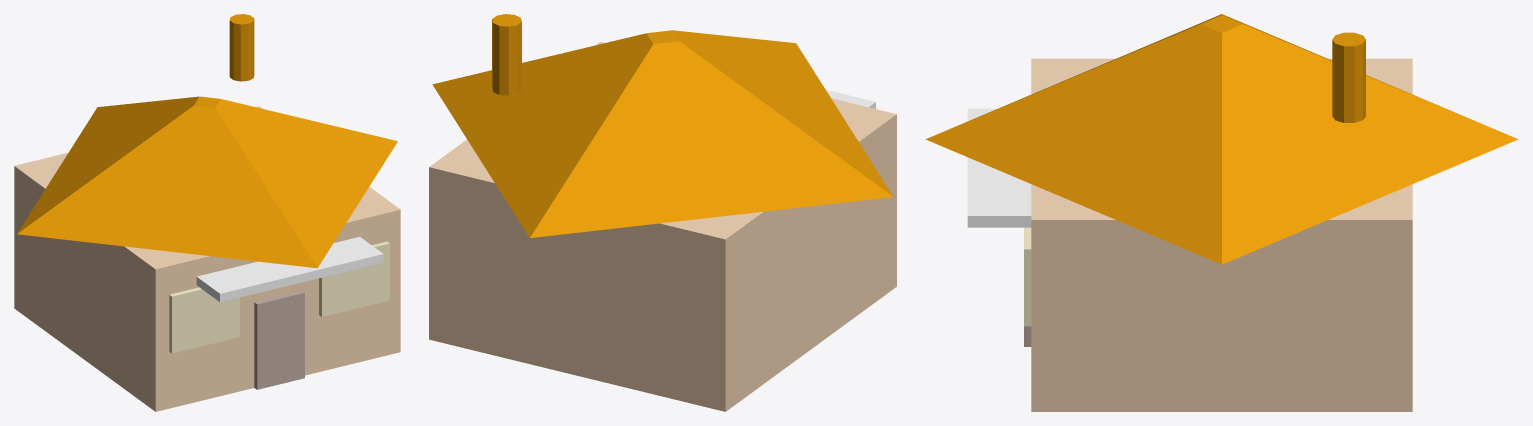
Rendered from Panaderia.fbx.
3 renders of one model, left to right at view 1: azimuth 30°, elevation 25°; view 2: azimuth 150°, elevation 25°; view 3: azimuth 270°, elevation 25°, orthographic. The views are drawn at different scales.
Visible parts, largest first — view 1: Panaderia; view 2: Panaderia; view 3: Panaderia.
Boxes of the visible parts, bbox=[...] form: Panaderia: bbox=[14, 14, 400, 411]; Panaderia: bbox=[429, 14, 896, 411]; Panaderia: bbox=[925, 14, 1518, 411].
Size of the model in its own units: 280 by 180 by 280.
